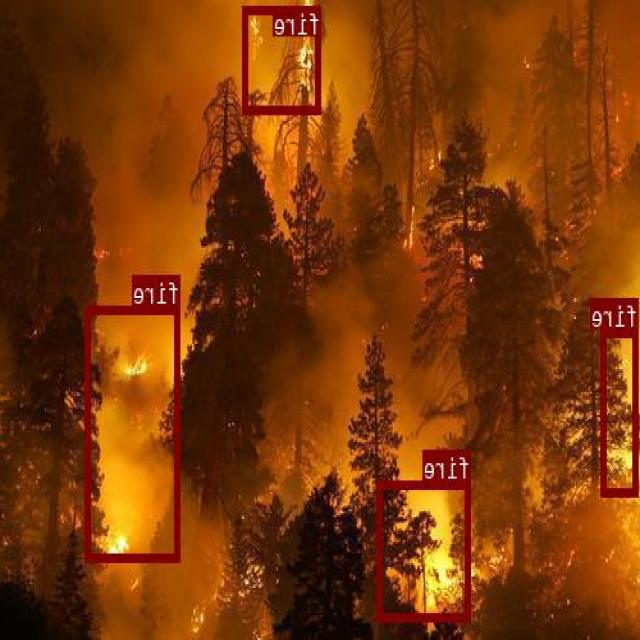fire: (86, 305, 180, 560), (378, 479, 472, 620), (244, 5, 321, 111), (602, 328, 640, 495)
